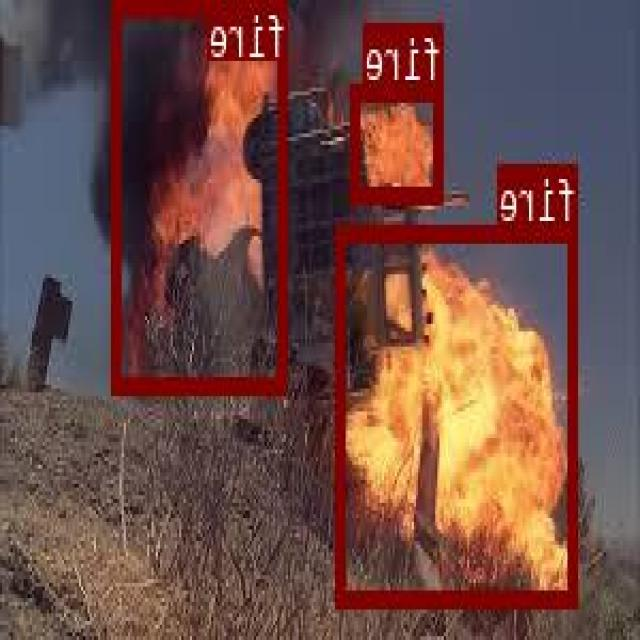fire: (337, 224, 579, 605), (114, 0, 289, 392), (354, 82, 444, 198)
